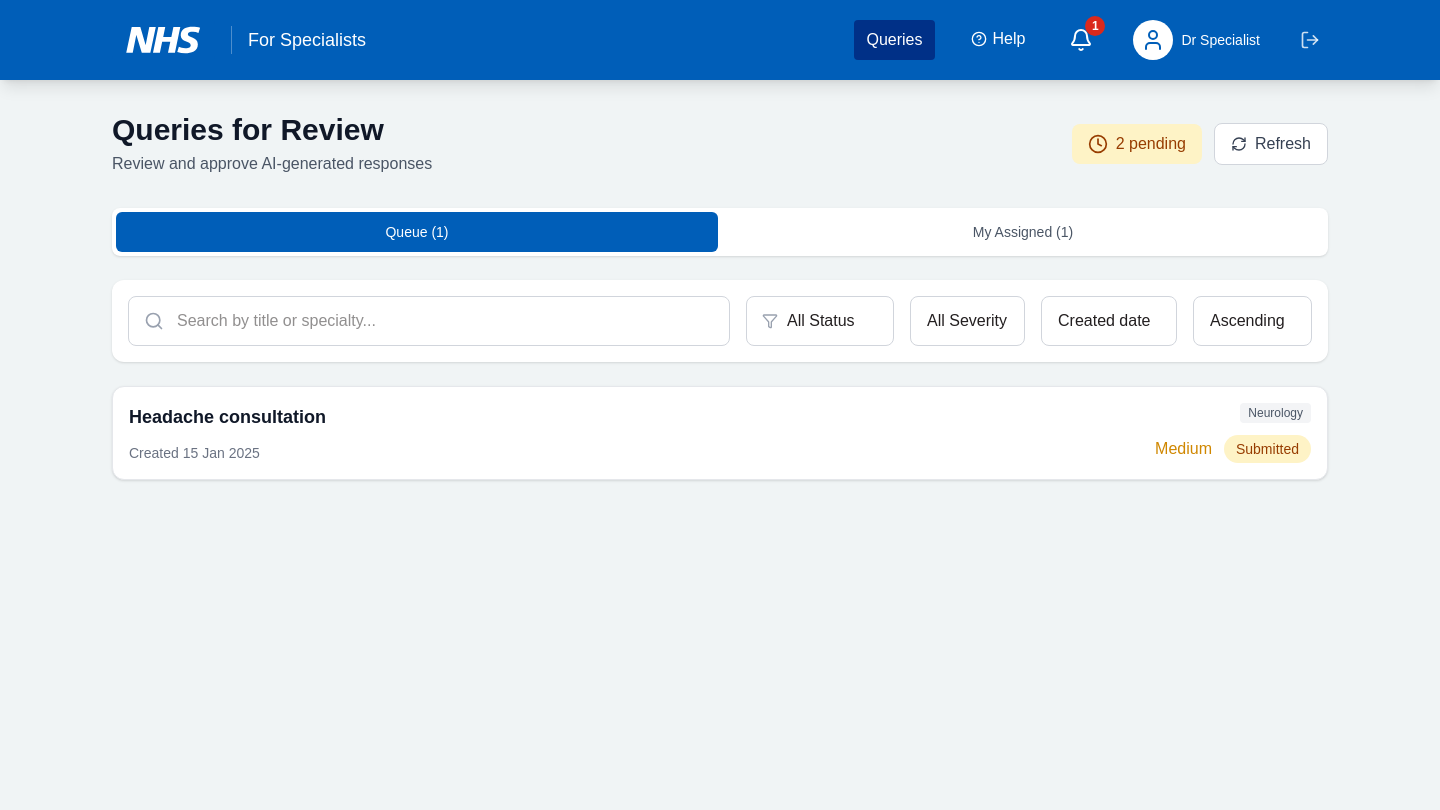
Test case: SpecialistQueriesPage › filters by search term
Check: the heading "Headache consultation" is shown, box [129,407,326,427]
Type "nonexistent" into the field with placeholder "Search by title or specialty..." at [429, 321], box [128,296,730,346]
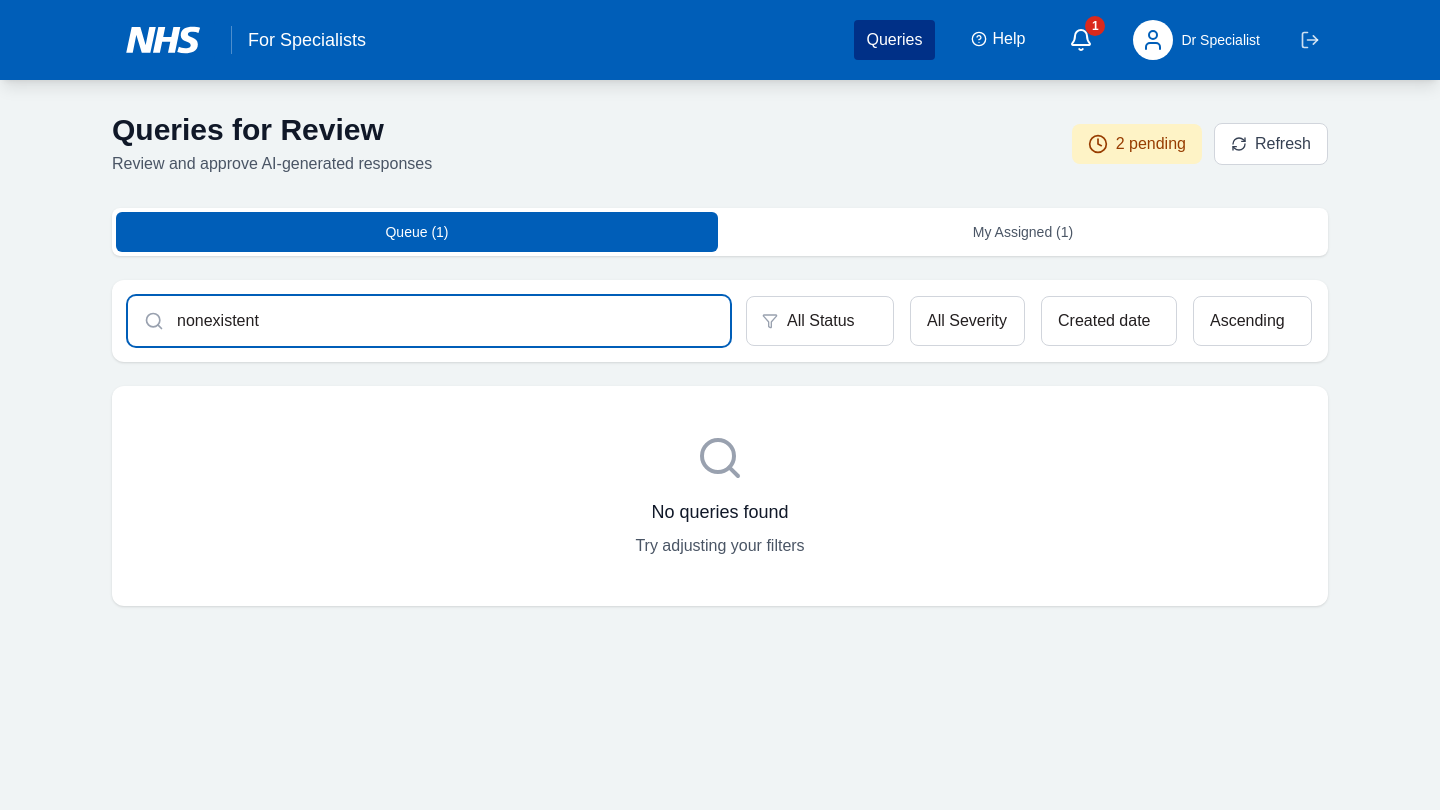
Check: the heading "No queries found" is shown, box [652,502,789,522]
